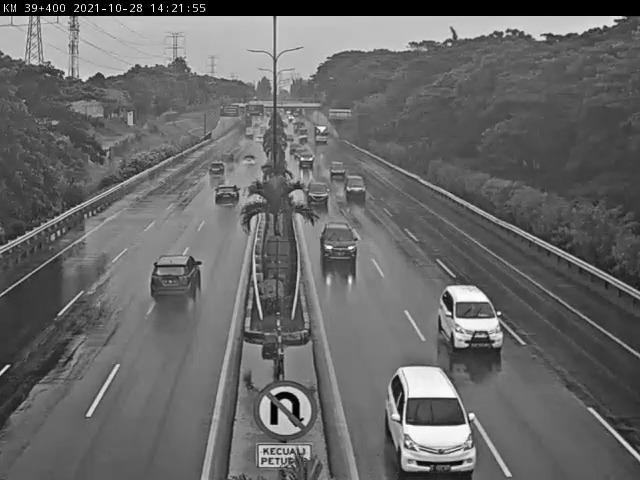car: (383, 366, 478, 476), (436, 285, 504, 351), (149, 256, 201, 303), (319, 217, 356, 258), (304, 181, 330, 207), (343, 174, 367, 200), (214, 182, 241, 205), (326, 158, 346, 178), (208, 161, 228, 179), (298, 150, 315, 170), (240, 153, 258, 170)
